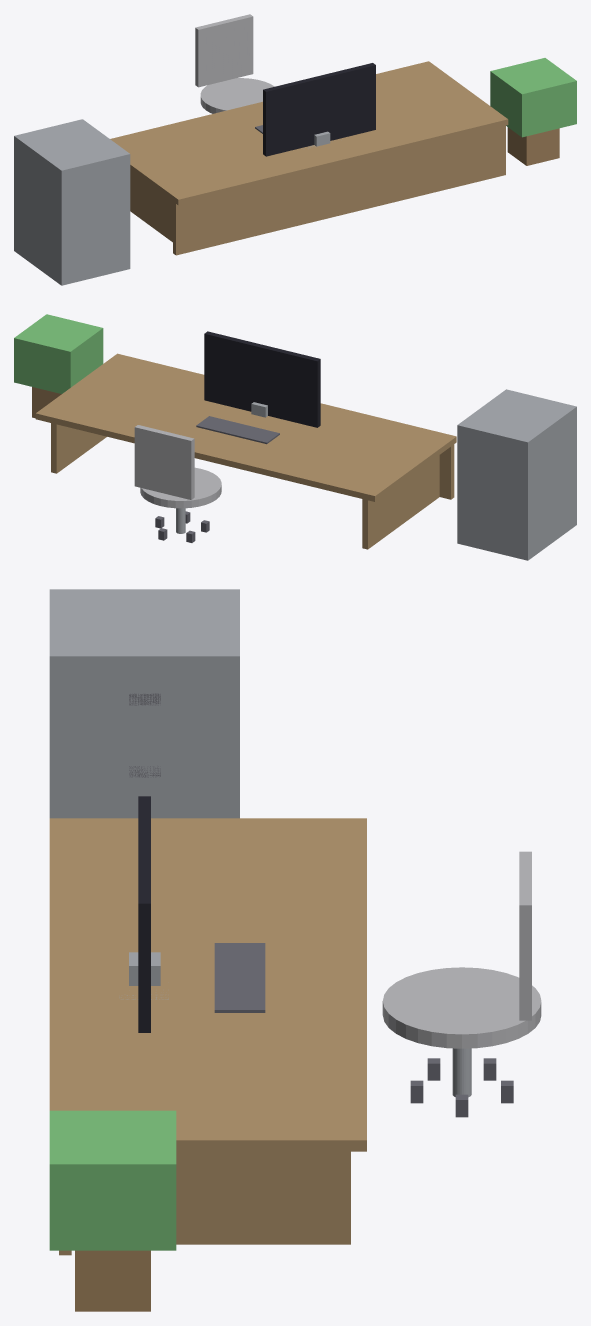
Rendered from furniture_office.fbx.
The picture shows the model from 3 angles, top to bottom: view 1: azimuth 30°, elevation 25°; view 2: azimuth 150°, elevation 25°; view 3: azimuth 270°, elevation 25°; orthographic projection. The views are drawn at different scales.
Visible parts, largest first — view 1: Desk, FileCabinet, DeskBack, Monitor, Plant, ChairBack, ChairSeat, DeskPanel_L, Pot; view 2: Desk, FileCabinet, Monitor, Plant, ChairBack, DeskPanel_L, DeskPanel_R, ChairSeat, Keyboard, DeskBack, Pot; view 3: Desk, FileCabinet, Plant, DeskPanel_R, ChairSeat, Pot, Keyboard, Monitor, ChairBack, ChairPole.
Boxes of the visible parts, x1,y1,x2,y2 form: Desk: (110,61,508,205); FileCabinet: (14,119,130,285); DeskBack: (173,125,505,255); Monitor: (263,63,375,156); Plant: (490,58,576,137); ChairBack: (195,14,253,87); ChairSeat: (200,78,274,113); DeskPanel_L: (130,170,172,242); Pot: (507,127,559,165); Desk: (35,353,456,501); FileCabinet: (457,389,576,560); Monitor: (204,331,320,427); Plant: (14,314,103,393); ChairBack: (134,425,194,499); DeskPanel_L: (362,455,439,549); DeskPanel_R: (51,423,106,473); ChairSeat: (140,467,221,508); Keyboard: (196,416,279,444); DeskBack: (439,441,454,499); Pot: (32,387,61,418); Desk: (49,818,366,1151); FileCabinet: (49,589,239,818); Plant: (49,1110,176,1250); DeskPanel_R: (176,1151,350,1244); ChairSeat: (382,967,541,1048); Pot: (75,1250,150,1311); Keyboard: (214,943,265,1012); Monitor: (138,796,150,1032); ChairBack: (519,851,531,1020); ChairPole: (452,1048,471,1097).
Bounding box in the file's own units: 3.75 × 0.85 × 1.55.
